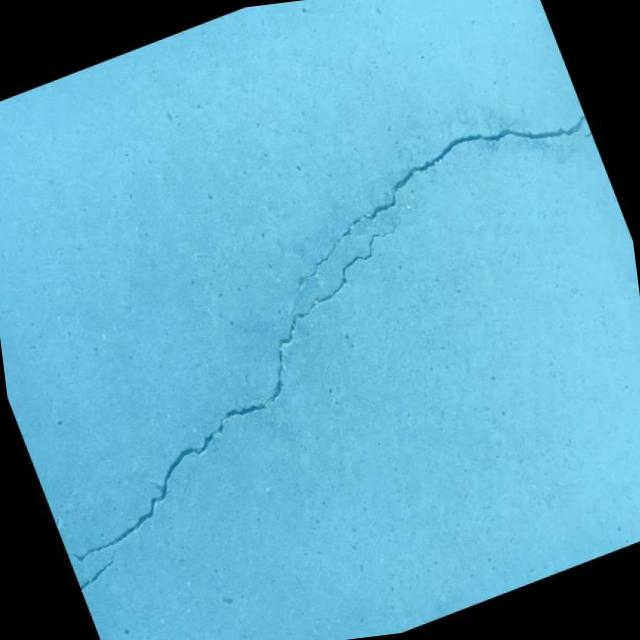crack: (0, 82, 640, 571), (70, 544, 132, 590), (584, 131, 591, 136)
